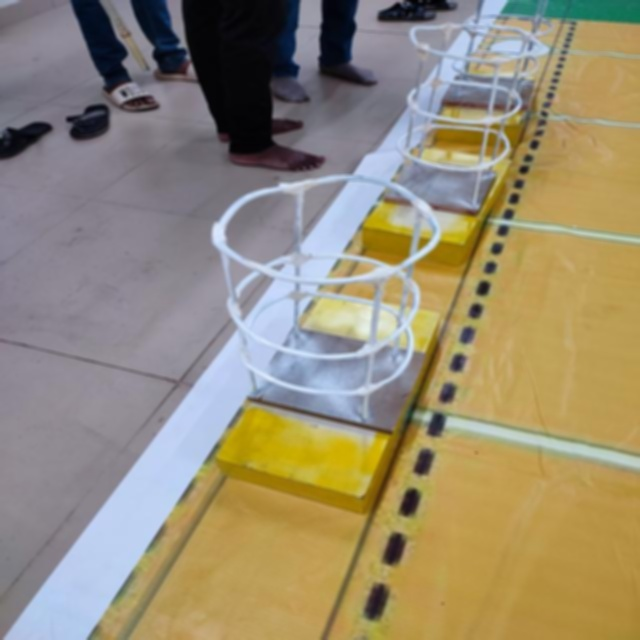silo: (208, 169, 446, 433), (401, 13, 557, 226)
